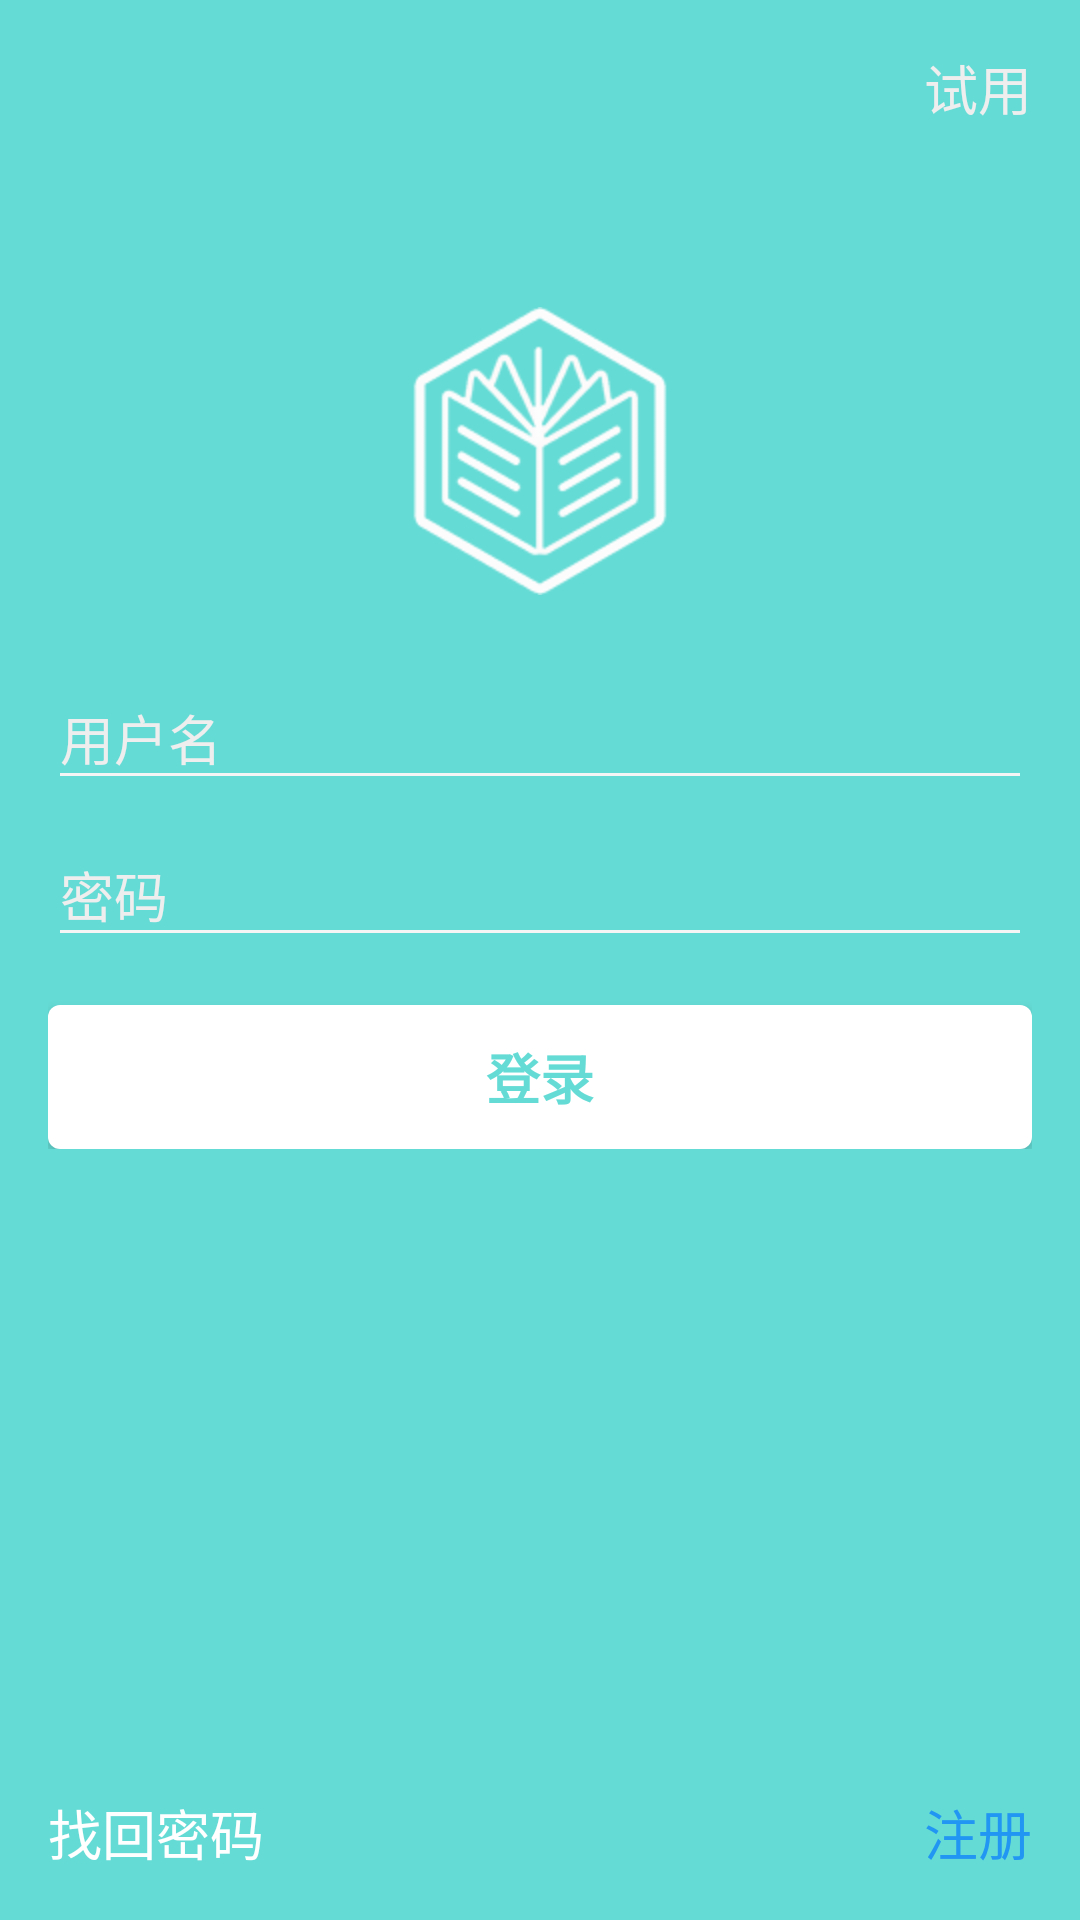

Named icons in this screenshot (1080x1920) and their bounding boxes, (x1, y1, x2, y2):
reading routine: (413, 307, 666, 595)
